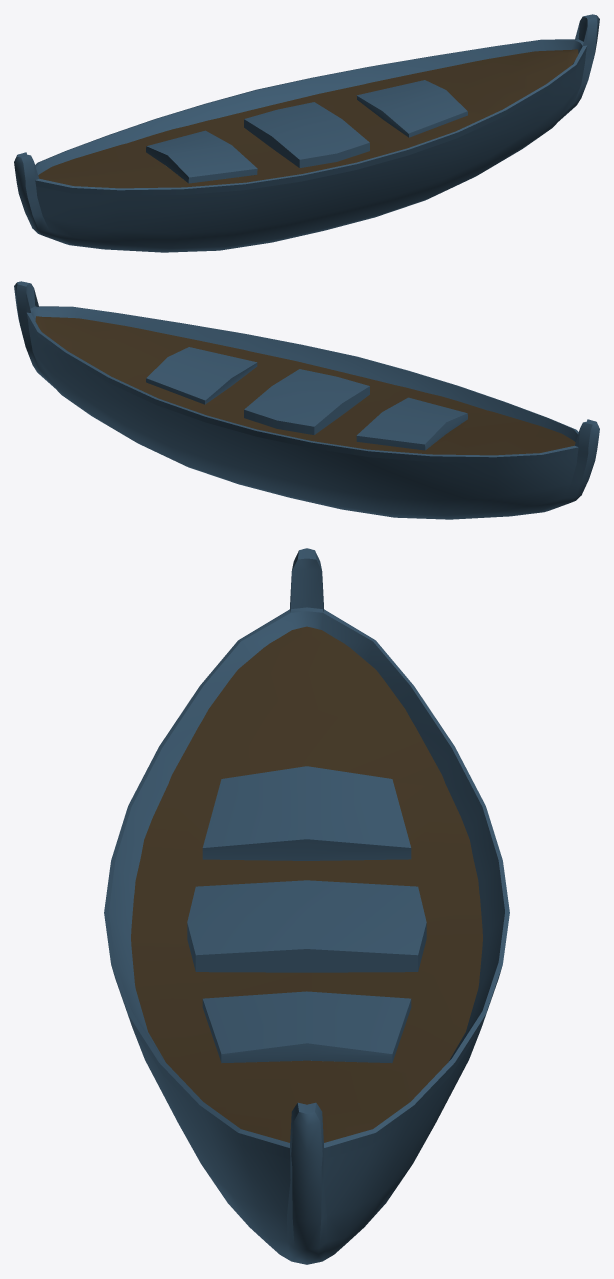
File: Barca_bueno.fbx
3 views of the same model, one above another, from view 1: azimuth 30°, elevation 25°; view 2: azimuth 150°, elevation 25°; view 3: azimuth 270°, elevation 25° (orthographic). The views are drawn at different scales.
Parts seen in each view (by area): view 1: Object001, Object002, Object003; view 2: Object001, Object002, Object003; view 3: Object002, Object001, Object003.
Part boxes in pixels (left/top/right/bottom): Object001: left=14, top=14, right=599, bottom=252; Object002: left=38, top=49, right=578, bottom=188; Object003: left=146, top=80, right=467, bottom=183; Object001: left=14, top=281, right=599, bottom=519; Object002: left=35, top=316, right=575, bottom=455; Object003: left=146, top=347, right=467, bottom=450; Object002: left=131, top=626, right=482, bottom=1142; Object001: left=104, top=548, right=509, bottom=1264; Object003: left=187, top=766, right=426, bottom=1063.
Bounding box in the file's own units: 550 × 125 × 165.
